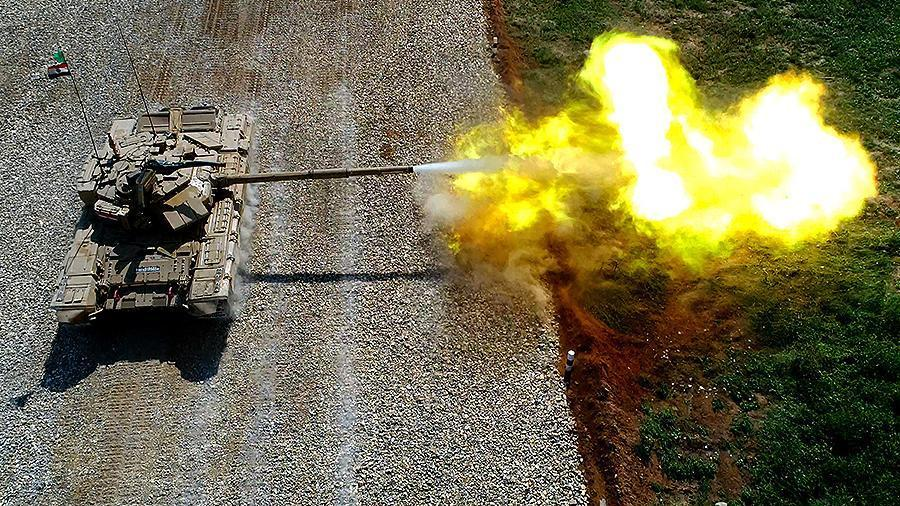tank: (47, 101, 415, 336)
